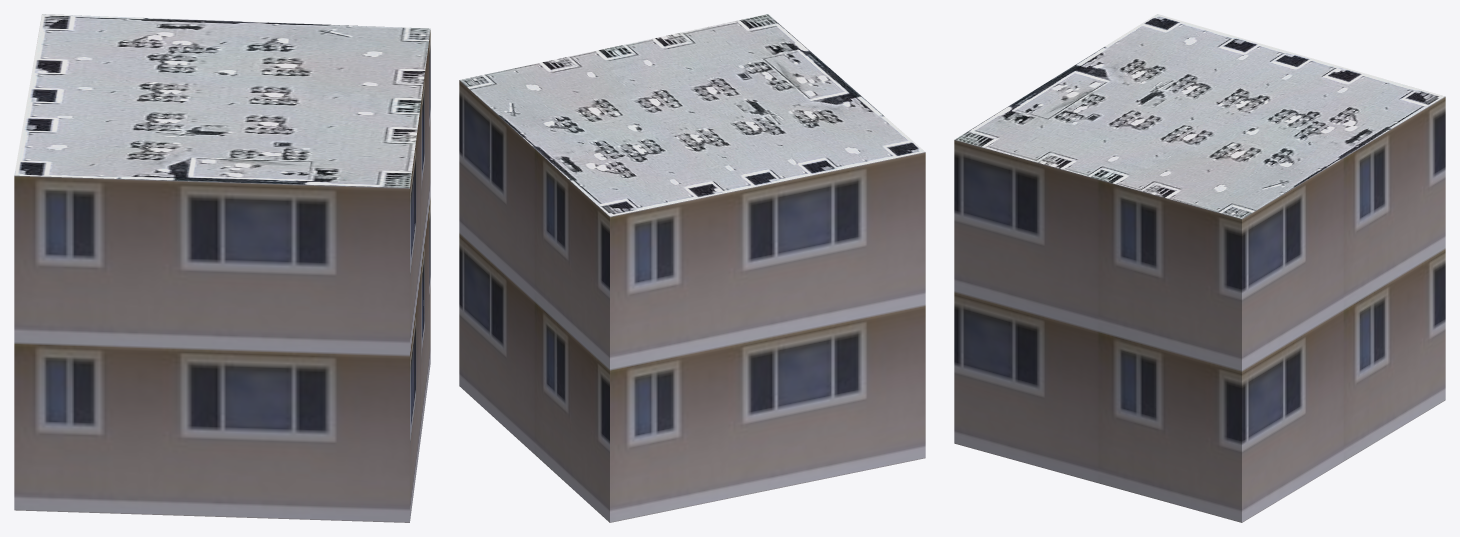
Rendered from ResTex__1904.fbx.
3 renders of one model, left to right at view 1: azimuth 30°, elevation 25°; view 2: azimuth 150°, elevation 25°; view 3: azimuth 270°, elevation 25°, orthographic. The views are drawn at different scales.
Parts seen in each view (by area): view 1: CityEngineMaterial_21_m, CityEngineMaterial_8_m; view 2: CityEngineMaterial_21_m, CityEngineMaterial_8_m; view 3: CityEngineMaterial_21_m, CityEngineMaterial_8_m.
Boxes of the visible parts, x1,y1,x2,y2 form: CityEngineMaterial_21_m: [14, 30, 430, 522]; CityEngineMaterial_8_m: [14, 14, 430, 188]; CityEngineMaterial_21_m: [459, 80, 925, 522]; CityEngineMaterial_8_m: [460, 14, 924, 216]; CityEngineMaterial_21_m: [954, 96, 1445, 522]; CityEngineMaterial_8_m: [955, 14, 1444, 218].
Bounding box in the file's own units: 8.68 × 6 × 8.79.
Materials: 2 (2 with a texture image).
